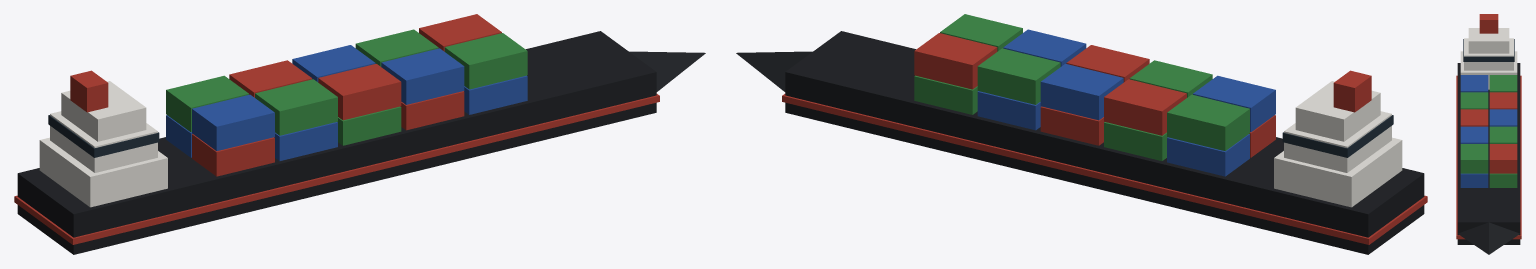
The model's file is cargo_ship.glb.
3 views of the same model, side by side, from view 1: azimuth 30°, elevation 25°; view 2: azimuth 150°, elevation 25°; view 3: azimuth 270°, elevation 25° (orthographic). The views are drawn at different scales.
Visible parts, largest first — view 1: CargoShip; view 2: CargoShip; view 3: CargoShip.
Part boxes in pixels (x1,y1,x2,y2): CargoShip: (14,14,705,254); CargoShip: (736,14,1427,254); CargoShip: (1456,14,1521,254).
Bounding box in the file's own units: 6.82 × 1.42 × 1.04.
